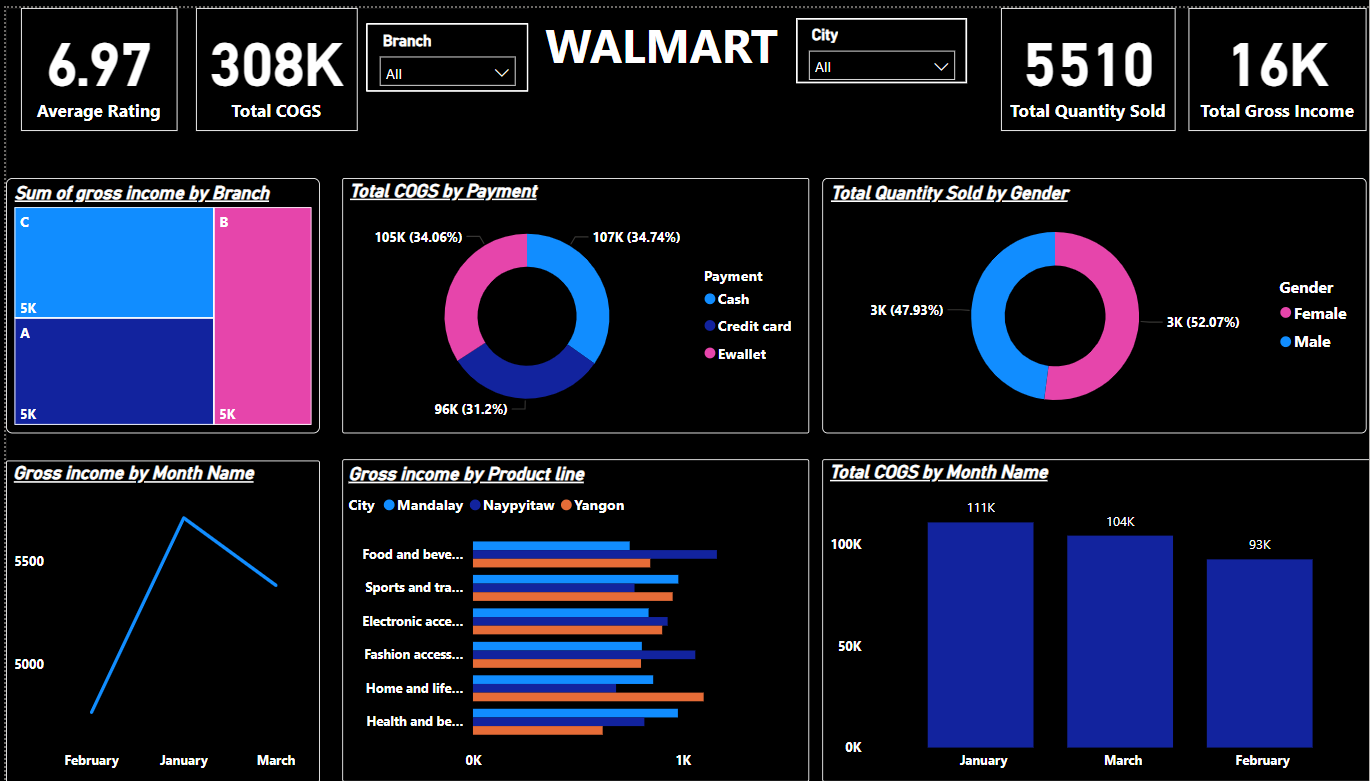

This screenshot's page, from the dashboard's own definition file:
{"tool":"powerbi","page":{"name":"Walmart Sales Dashboard","canvas":[1280,720],"ordinal":0},"visuals":[{"type":"slicer","fields":{"Values":["WalmartSalesData csv.Payment"]},"box":[25,537.5,151.6,65.6],"z":0},{"type":"slicer","fields":{"Values":["WalmartSalesData csv.Branch"]},"box":[334.4,14.1,151.6,64.1],"z":1000},{"type":"card","fields":{"Values":["WalmartSalesData csv.Total COGS"]},"box":[176.6,0,150,114.1],"z":2000},{"type":"card","fields":{"Values":["WalmartSalesData csv.Total Quantity Sold"]},"box":[925,0,162.5,114.1],"z":3000},{"type":"clusteredColumnChart","fields":{"Category":["WalmartSalesData csv.Month Name"],"Y":["WalmartSalesData csv.Total COGS"]},"box":[759.4,420.3,520.3,300],"z":4000},{"type":"clusteredBarChart","title":"Gross income by Product line","fields":{"Category":["WalmartSalesData csv.Product line"],"Y":["Sum(WalmartSalesData csv.gross income)"],"Series":["WalmartSalesData csv.City"]},"box":[312.5,420.3,434.4,300],"z":5000},{"type":"donutChart","fields":{"Series":["WalmartSalesData csv.Payment"],"Y":["WalmartSalesData csv.Total COGS"]},"box":[312.5,157.8,434.4,237.5],"z":6000},{"type":"treemap","fields":{"Group":["WalmartSalesData csv.Branch"],"Values":["Sum(WalmartSalesData csv.gross income)"]},"box":[0,157.8,292.2,237.5],"z":7000},{"type":"slicer","fields":{"Values":["WalmartSalesData csv.City"]},"box":[734.9,9.3,159.3,60.5],"z":8000},{"type":"lineChart","title":"Gross income by Month Name","fields":{"Category":["WalmartSalesData csv.Month Name"],"Y":["Sum(WalmartSalesData csv.gross income)"]},"box":[0,421.3,292.3,299.1],"z":9000},{"type":"donutChart","fields":{"Category":["WalmartSalesData csv.Gender"],"Y":["WalmartSalesData csv.Total Quantity Sold"]},"box":[759.4,157.8,506.2,237.5],"z":10000},{"type":"card","fields":{"Values":["WalmartSalesData csv.Average Rating"]},"box":[14.1,0,145.3,114.1],"z":11000},{"type":"card","fields":{"Values":["WalmartSalesData csv.Total Gross Income"]},"box":[1100,0,165.6,114.1],"z":12000},{"type":"textbox","box":[485.9,0,248.4,78.1],"z":13000}]}

Visuals, with their boxes in screenshot pixels (x1, y1, x2, y2), scaled from the page's 1280x720 canvas onto the 1370x781 screenshot:
slicer - WalmartSalesData csv.Payment: <region>27, 583, 189, 654</region>
slicer - WalmartSalesData csv.Branch: <region>358, 15, 520, 85</region>
card - WalmartSalesData csv.Total COGS: <region>189, 0, 350, 124</region>
card - WalmartSalesData csv.Total Quantity Sold: <region>990, 0, 1164, 124</region>
clusteredColumnChart - WalmartSalesData csv.Month Name x WalmartSalesData csv.Total COGS: <region>813, 456, 1369, 780</region>
"Gross income by Product line" clusteredBarChart: <region>334, 456, 799, 780</region>
donutChart - WalmartSalesData csv.Payment x WalmartSalesData csv.Total COGS: <region>334, 171, 799, 429</region>
treemap - WalmartSalesData csv.Branch x Sum(WalmartSalesData csv.gross income): <region>0, 171, 313, 429</region>
slicer - WalmartSalesData csv.City: <region>787, 10, 957, 76</region>
"Gross income by Month Name" lineChart: <region>0, 457, 313, 780</region>
donutChart - WalmartSalesData csv.Gender x WalmartSalesData csv.Total Quantity Sold: <region>813, 171, 1355, 429</region>
card - WalmartSalesData csv.Average Rating: <region>15, 0, 171, 124</region>
card - WalmartSalesData csv.Total Gross Income: <region>1177, 0, 1355, 124</region>
textbox: <region>520, 0, 786, 85</region>
